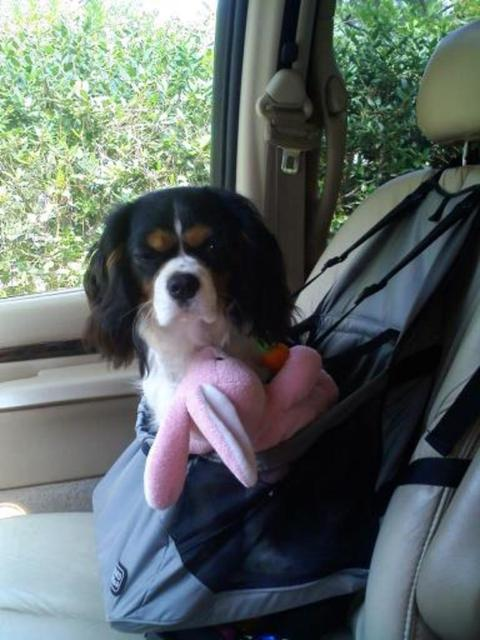Seatbelt: (264, 106, 319, 292)
